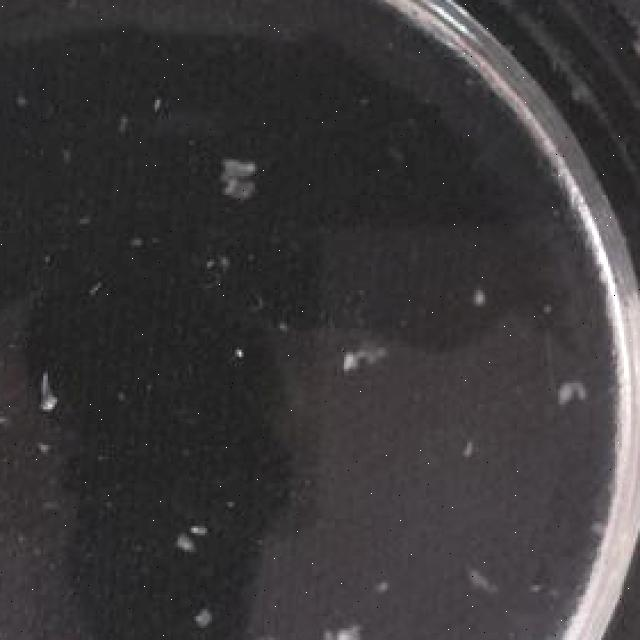Microplastic: (216, 150, 266, 209), (146, 81, 184, 138), (456, 562, 496, 606), (191, 594, 228, 638), (342, 335, 385, 369), (317, 609, 362, 640), (558, 366, 590, 407), (43, 369, 66, 419), (617, 0, 640, 50), (180, 512, 207, 550), (467, 278, 494, 316), (164, 519, 189, 559), (456, 440, 474, 476), (0, 407, 14, 445)
